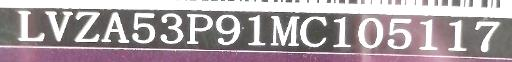letter: (441, 17, 475, 59), (384, 14, 418, 54), (12, 6, 48, 42), (269, 12, 303, 48), (298, 14, 332, 50), (101, 9, 133, 47), (471, 17, 503, 55), (185, 10, 215, 48), (215, 11, 245, 49), (356, 14, 386, 50), (74, 8, 102, 45), (157, 9, 185, 45), (242, 11, 268, 49), (130, 10, 158, 45), (44, 8, 72, 42), (414, 16, 440, 52), (330, 14, 354, 50)
